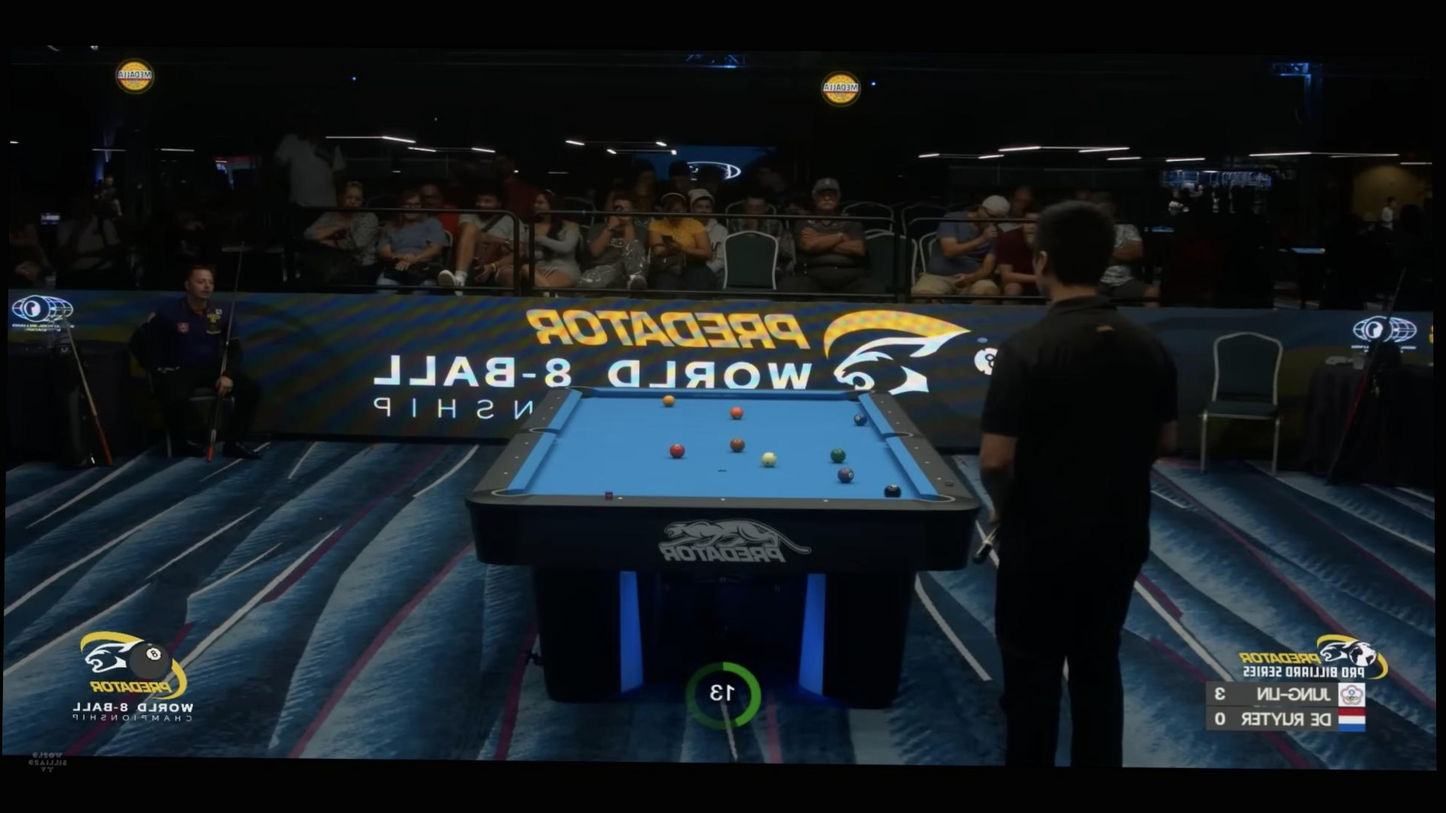Black: (720, 497, 726, 502), (824, 499, 829, 504), (514, 455, 520, 459), (524, 441, 530, 445), (618, 496, 623, 500), (503, 471, 508, 475), (936, 477, 941, 481), (914, 446, 919, 450), (879, 400, 884, 404), (896, 421, 900, 425), (887, 410, 891, 414), (925, 461, 930, 464), (542, 417, 546, 420), (549, 406, 553, 409), (557, 397, 560, 400), (786, 388, 789, 391), (718, 387, 721, 390)
Cue: (837, 467, 855, 483), (730, 437, 745, 452), (669, 444, 685, 458), (831, 448, 846, 462), (854, 413, 868, 425), (730, 407, 743, 419), (663, 395, 675, 407)
Solid: (884, 484, 902, 498)
Stripe: (761, 452, 777, 467)
